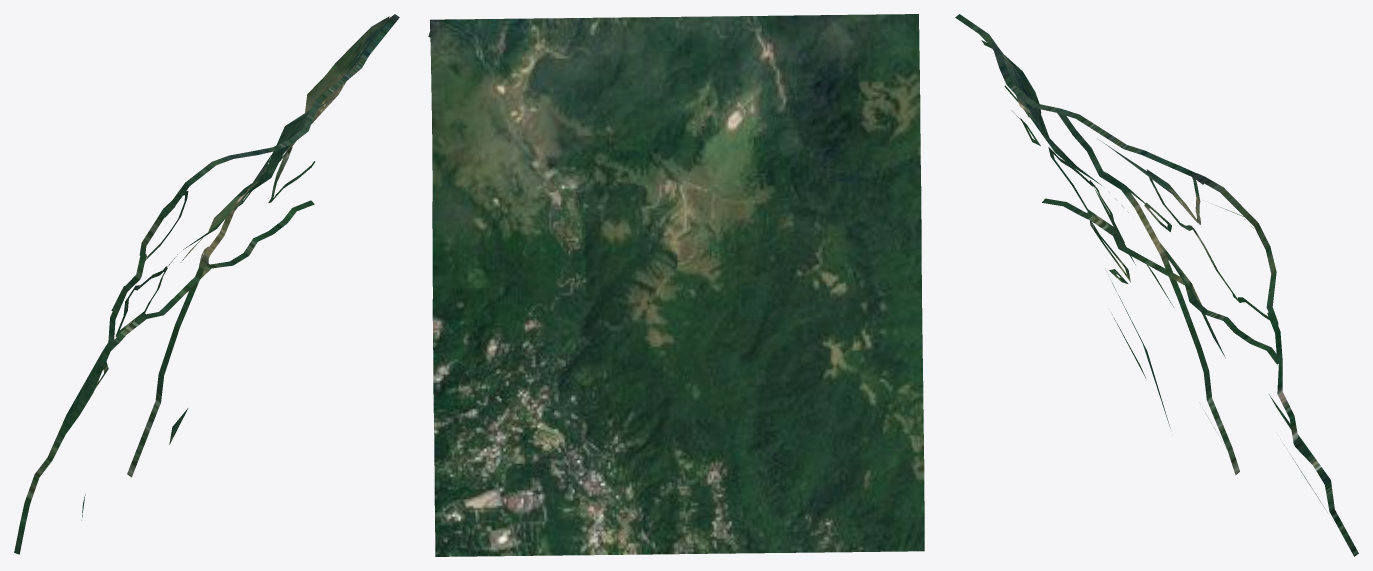
3 views of the same model, side by side, from view 1: azimuth 30°, elevation 25°; view 2: azimuth 150°, elevation 25°; view 3: azimuth 270°, elevation 25° (orthographic). The views are drawn at different scales.
Bounding box in the file's own units: 4802 × 4599 × 3953.
Materials: 1 (1 with a texture image).
